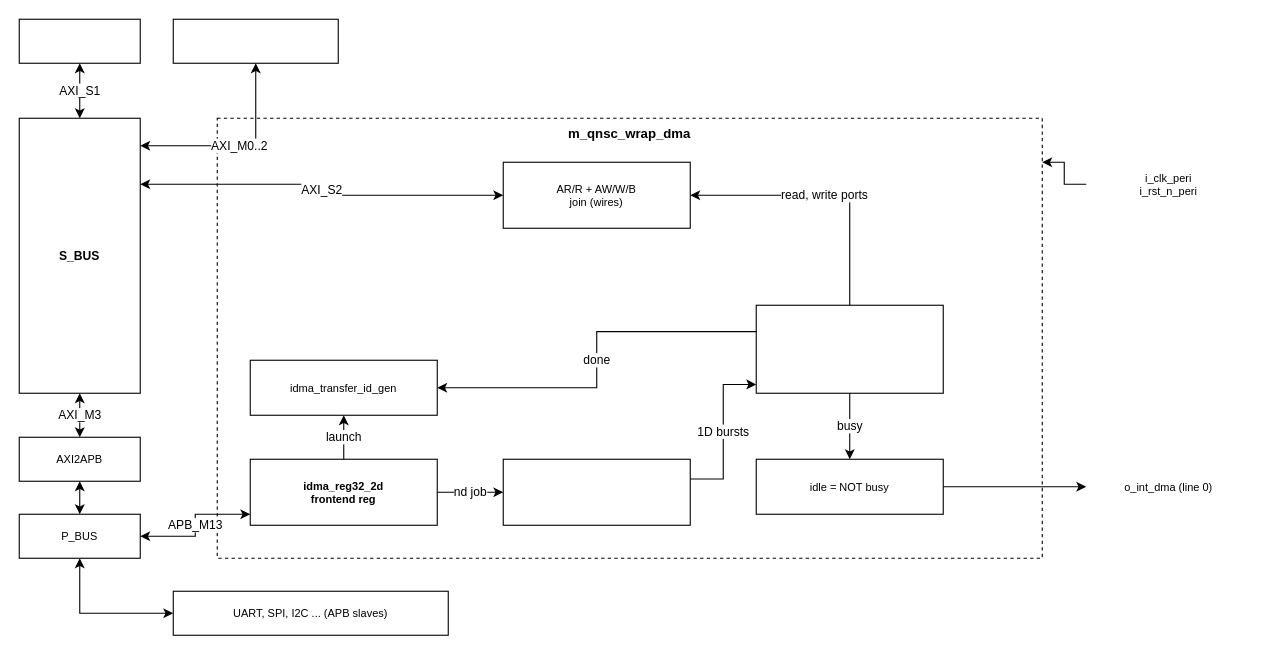
Some shapes in this 1271 by 655 pixel diagram are drawn without their labels. Each missing label, with the centre of its shape:
"Ibex" belongs at point 79,40.
"idma_backend_rw_axi (generated)" belongs at point 849,348.
"idma_nd_midend 2D" belongs at point 596,491.
"ISRAM, DSRAM, ROM" belongs at point 255,40.
